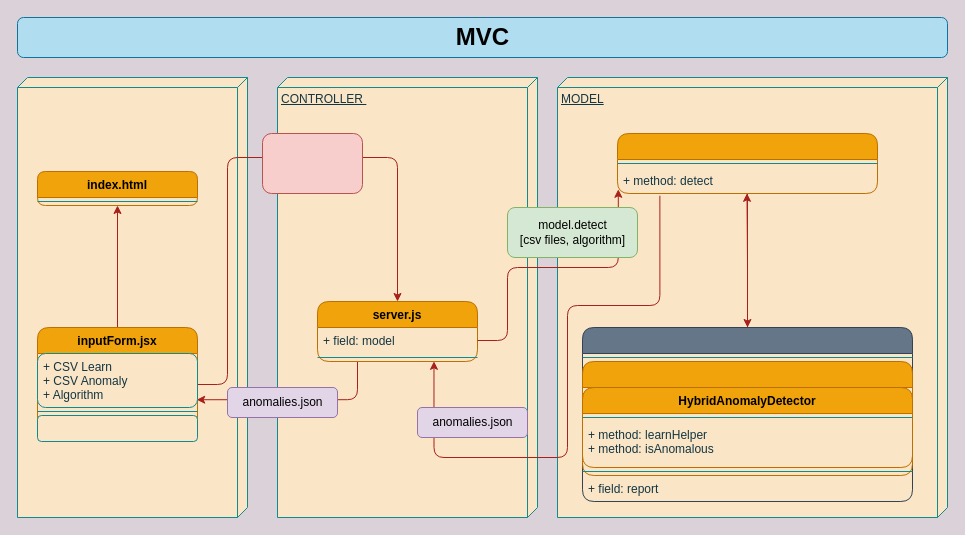
The diagram is 965 pixels wide and 535 high, and some of its shapes have lost their labels. The box of each missing label's shape, as (x1, y1, x2, y2) in pixels:
+ Submit: (36, 414, 198, 442)
Addon: (582, 326, 912, 502)
AnomalyDetector.js: (616, 132, 878, 194)
HTTP POST "/detect" HTTP GET "/": (262, 132, 362, 194)
SimpleAnomalyDetector: (582, 360, 912, 476)
VIEW: (16, 76, 248, 518)
